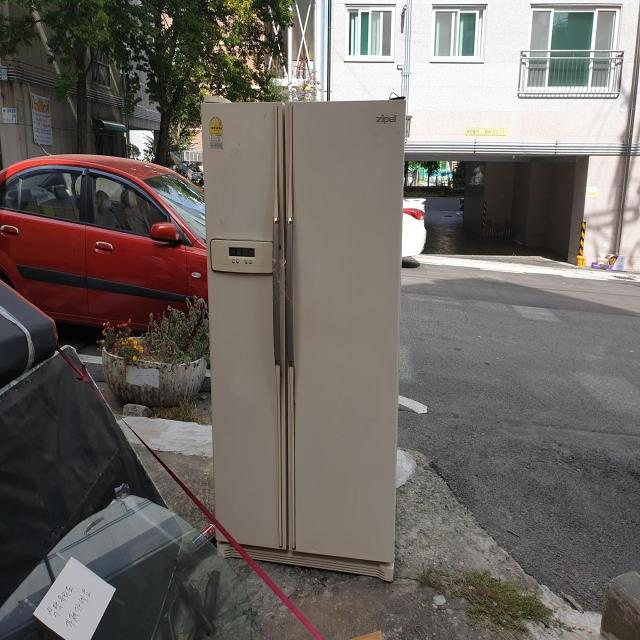refrigerator: (199, 90, 408, 584)
